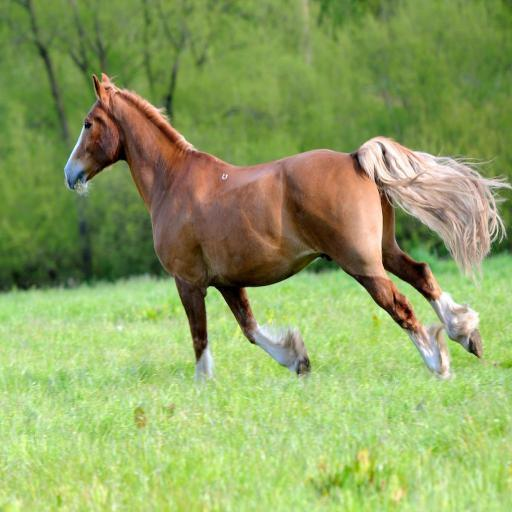horse: (62, 72, 512, 384)
